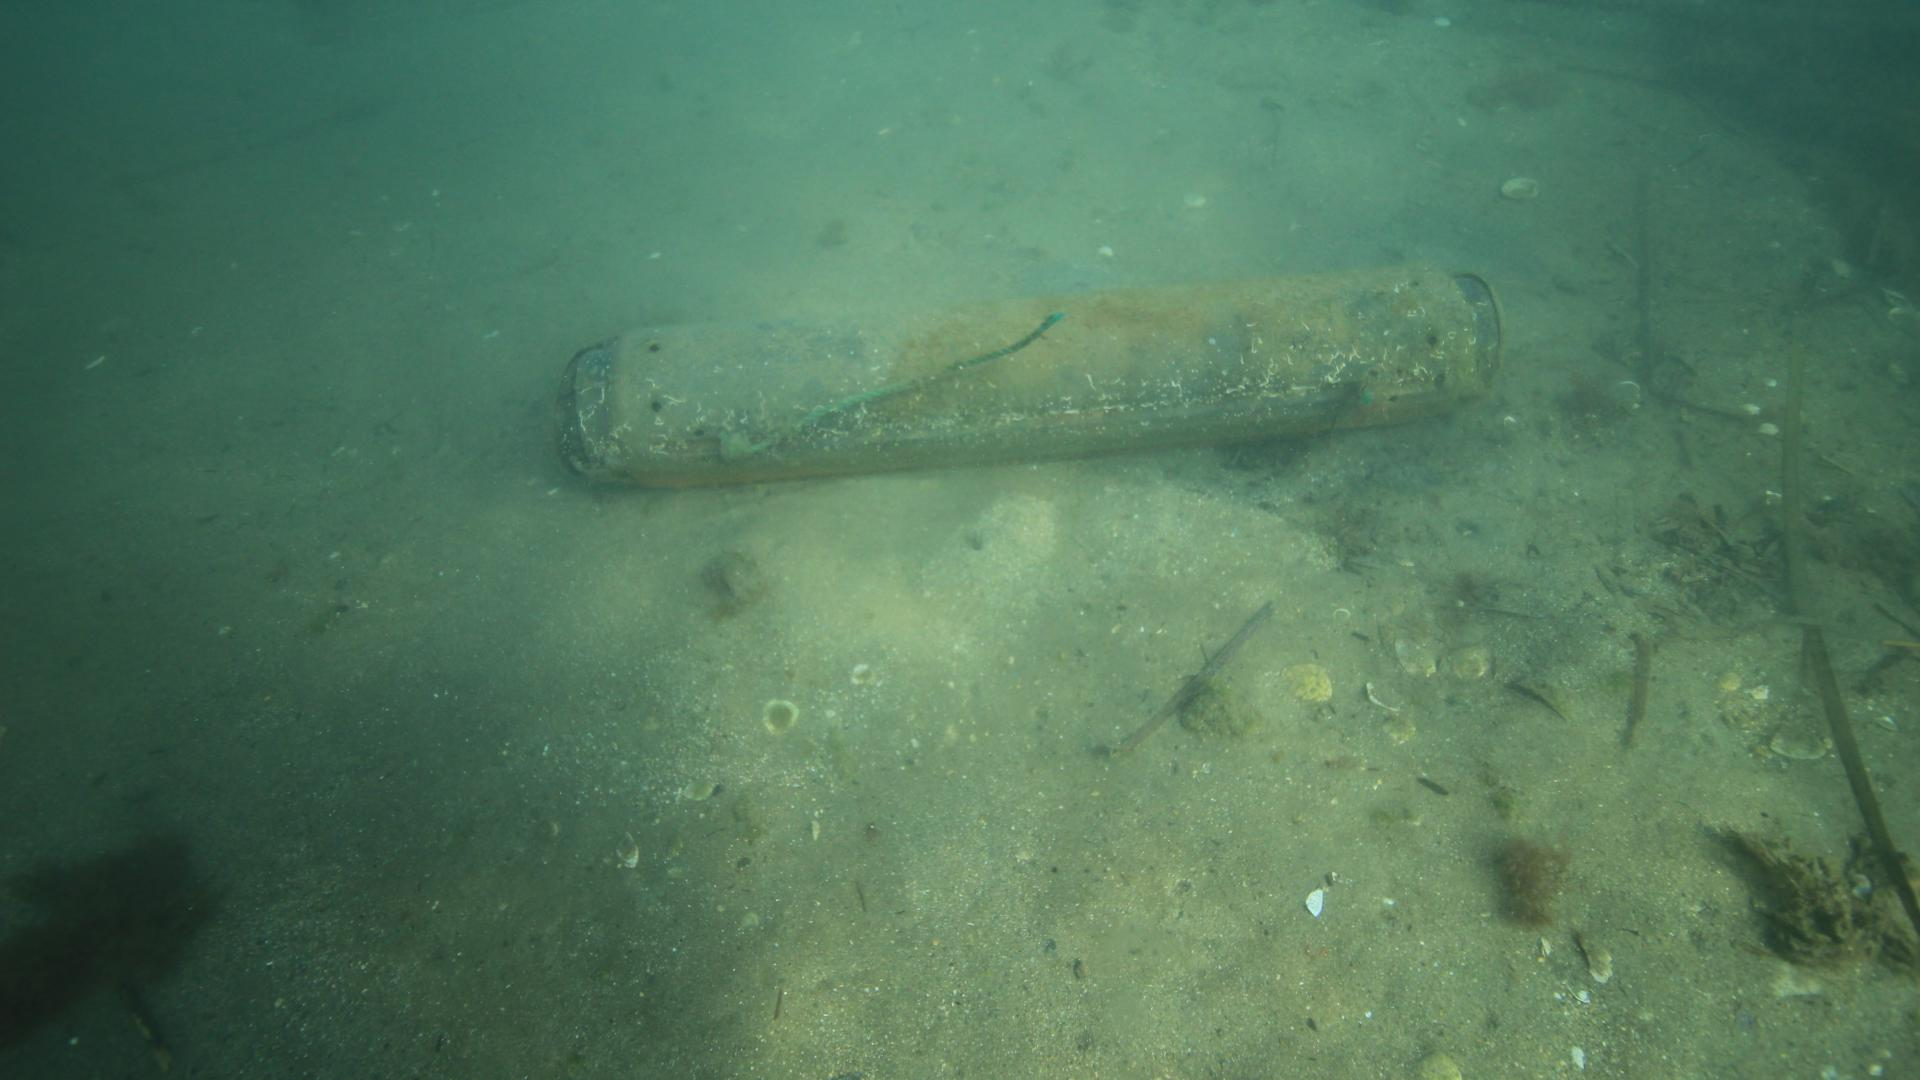eel fish trap: (553, 266, 1507, 493)
rope: (746, 306, 1069, 458)
